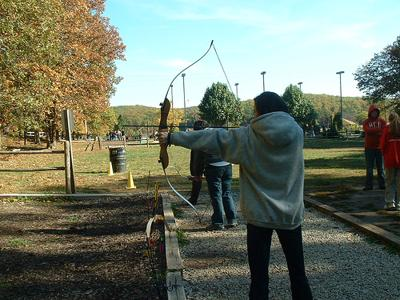person: (154, 92, 315, 300)
